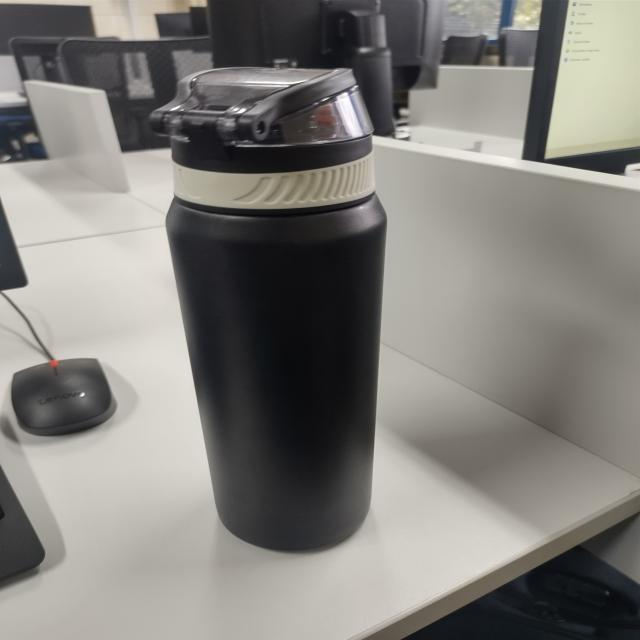Garrafa: (144, 49, 428, 563)
